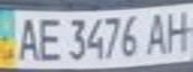3: (63, 15, 87, 61)
4: (84, 14, 106, 61)
6: (121, 11, 145, 57)
7: (103, 14, 124, 61)
A: (9, 14, 42, 62), (142, 8, 172, 56)
E: (33, 14, 63, 62)
H: (160, 7, 193, 54)
